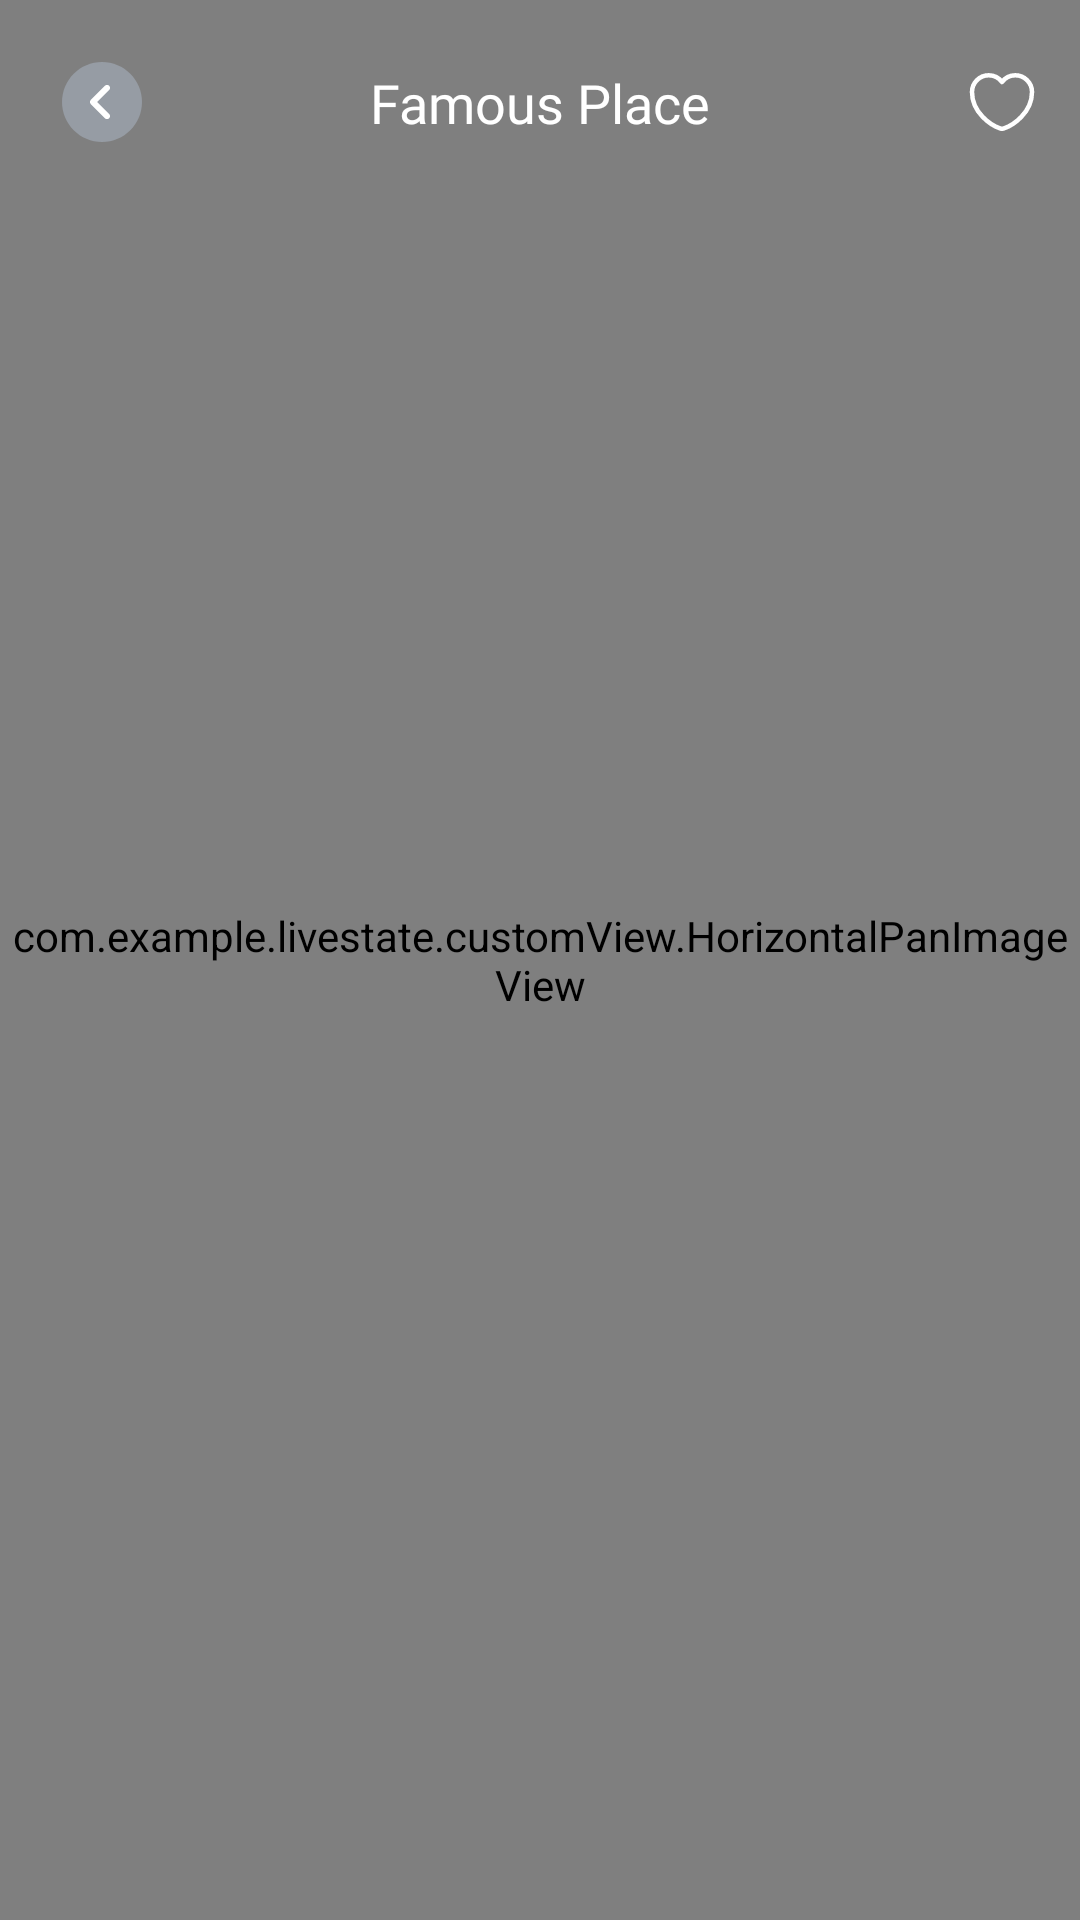

Locate icon controls on the screen. Image size 1080 × 1920, boxes as (x1, y1, x2, y2).
back: (62, 62, 142, 142)
heart: (969, 73, 1035, 131)
